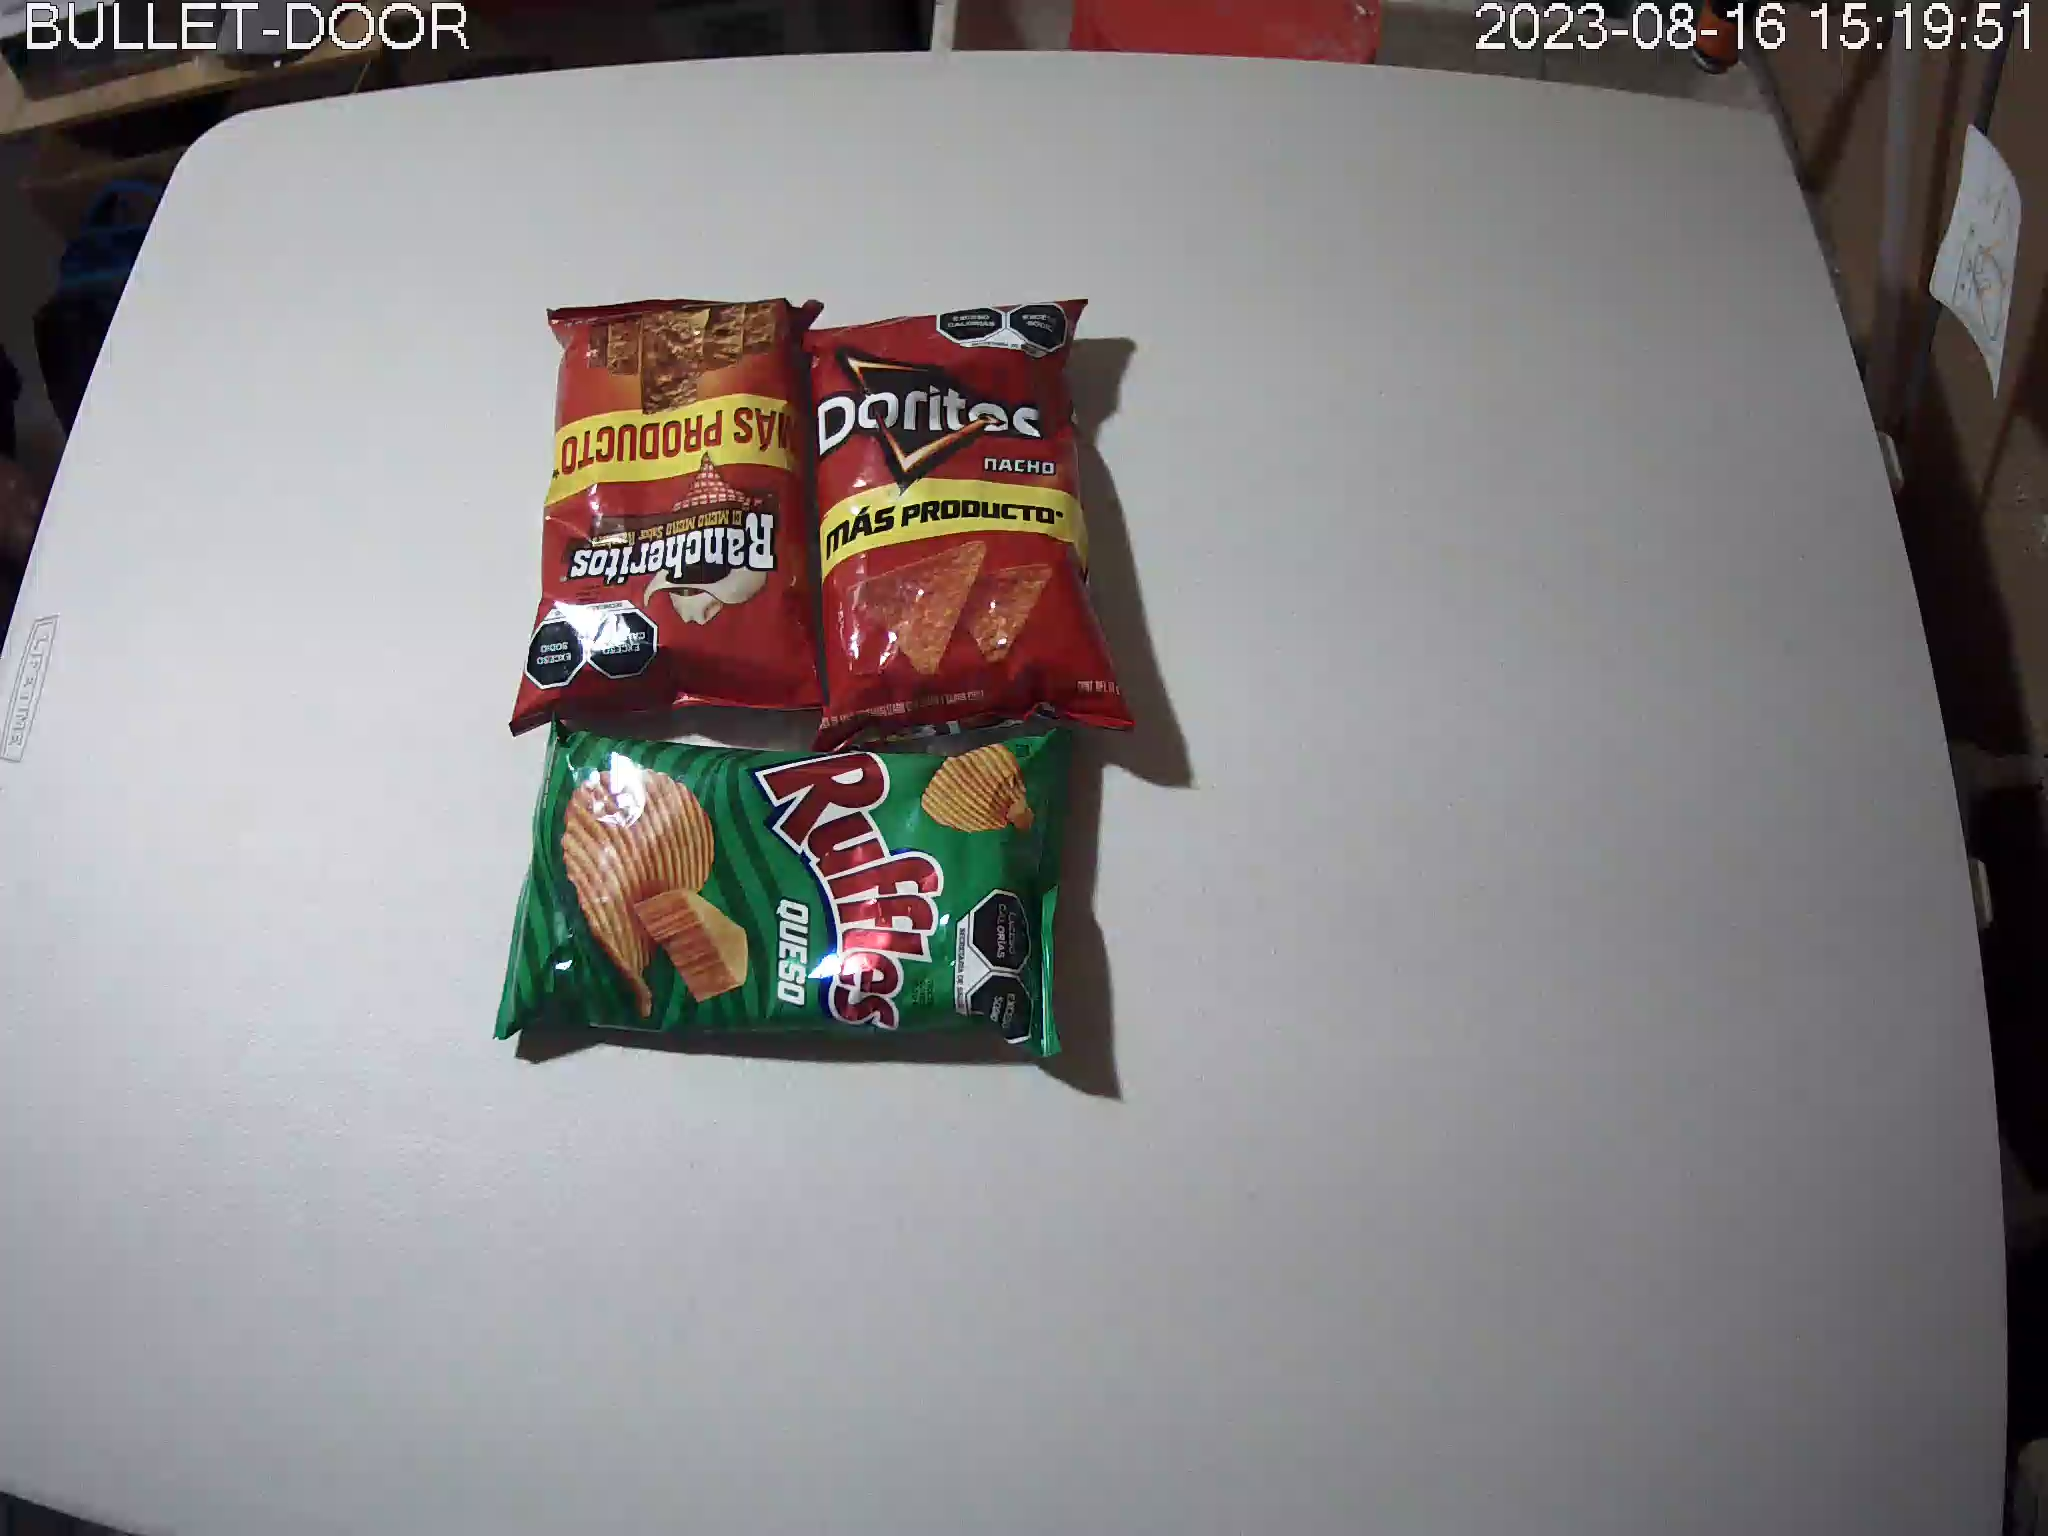DoritosN_61_F: (792, 298, 1142, 755)
Rancheritos_58_F: (510, 295, 830, 739)
RufflesQ_48_F: (493, 716, 1072, 1063)
